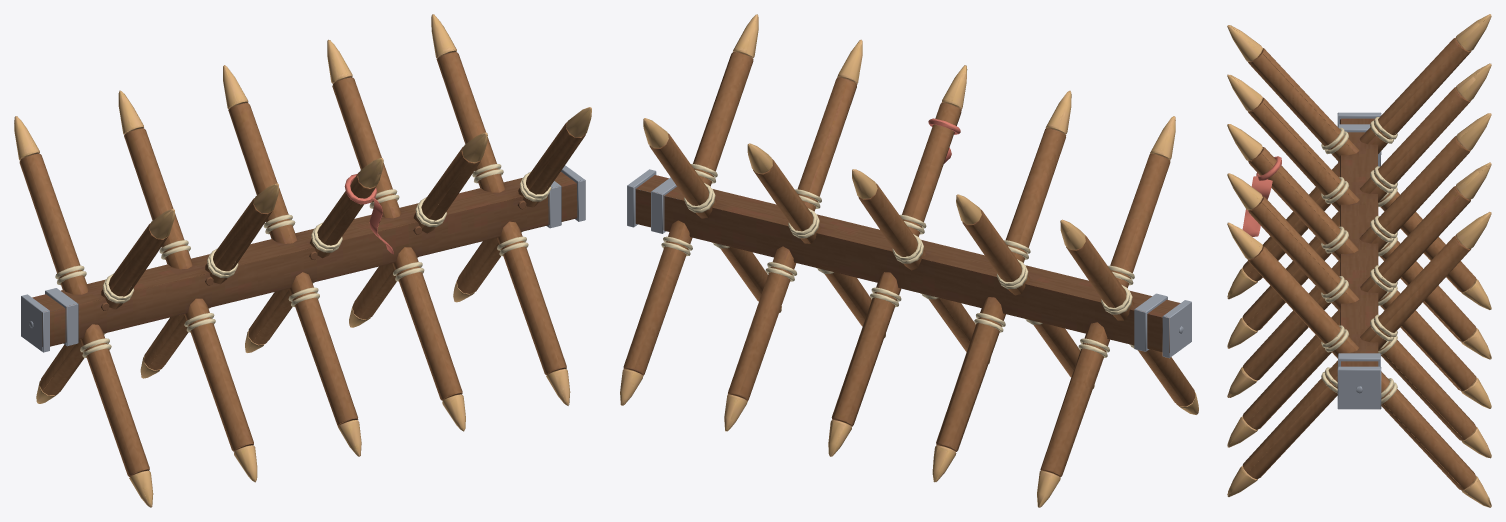
Rendered from barricada_pinchos.glb.
The picture shows the model from 3 angles, left to right: view 1: azimuth 30°, elevation 25°; view 2: azimuth 150°, elevation 25°; view 3: azimuth 270°, elevation 25°; orthographic projection. The views are drawn at different scales.
Parts seen in each view (by area): view 1: spiked-barricade_body; view 2: spiked-barricade_body; view 3: spiked-barricade_body.
Part boxes in pixels (x1,y1,x2,y2): spiked-barricade_body: [14, 14, 591, 507]; spiked-barricade_body: [620, 14, 1198, 507]; spiked-barricade_body: [1227, 14, 1491, 507].
Bounding box in the file's own units: 3.14 × 1.61 × 1.36.
5 materials, 1 textured.
